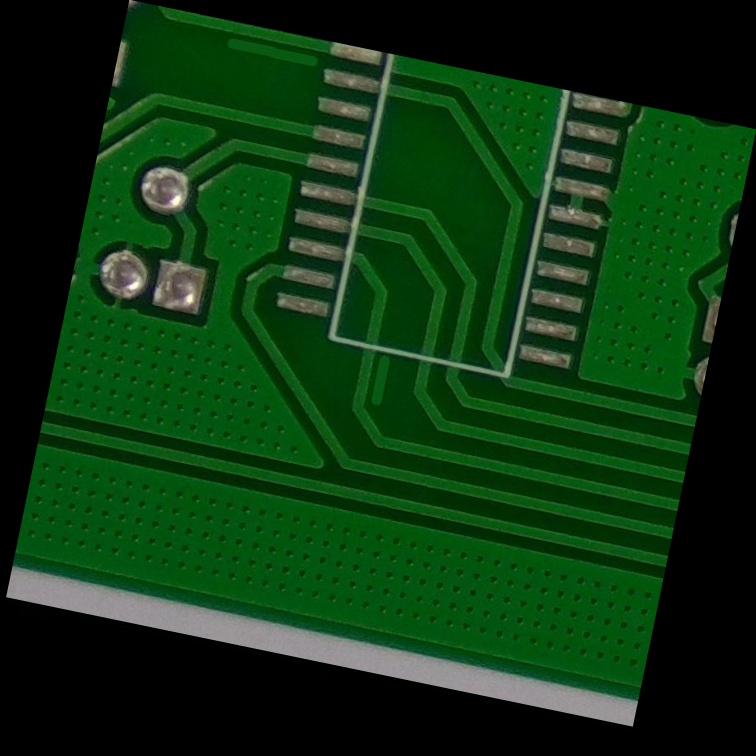spurious_copper: (354, 339, 403, 417)
